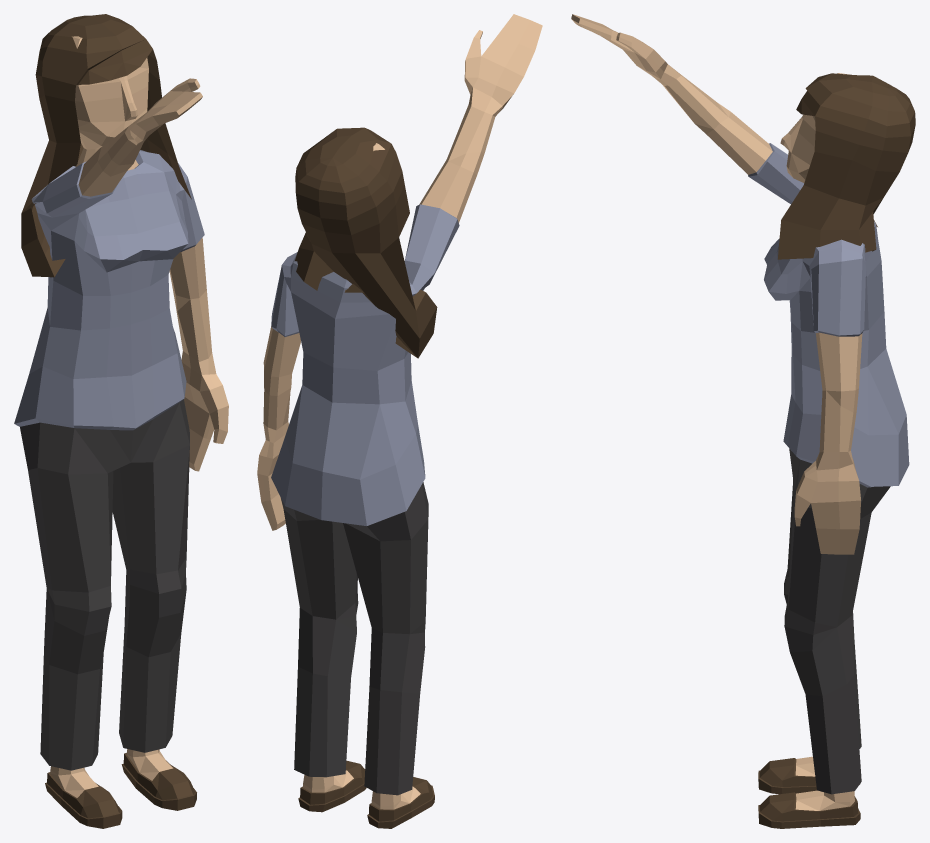
File: Female_Crowd_Pointing.glb
The picture shows the model from 3 angles, left to right: view 1: azimuth 30°, elevation 25°; view 2: azimuth 150°, elevation 25°; view 3: azimuth 270°, elevation 25°; orthographic projection. The views are drawn at different scales.
Visible parts, largest first — view 1: Female_Crowd_Pointing; view 2: Female_Crowd_Pointing; view 3: Female_Crowd_Pointing.
Part boxes in pixels (x1,y1,x2,y2): Female_Crowd_Pointing: (14, 14, 228, 828); Female_Crowd_Pointing: (257, 14, 542, 828); Female_Crowd_Pointing: (571, 14, 915, 828).
Size of the model in its own units: 0.4127 by 1.75 by 0.7159.
